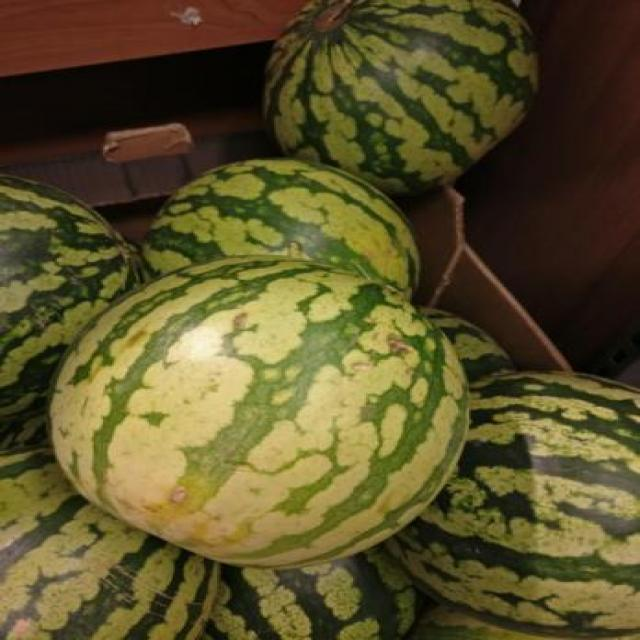Watermelon: (51, 257, 471, 570), (385, 369, 639, 638), (265, 0, 541, 193), (138, 160, 421, 302), (0, 175, 136, 397)
